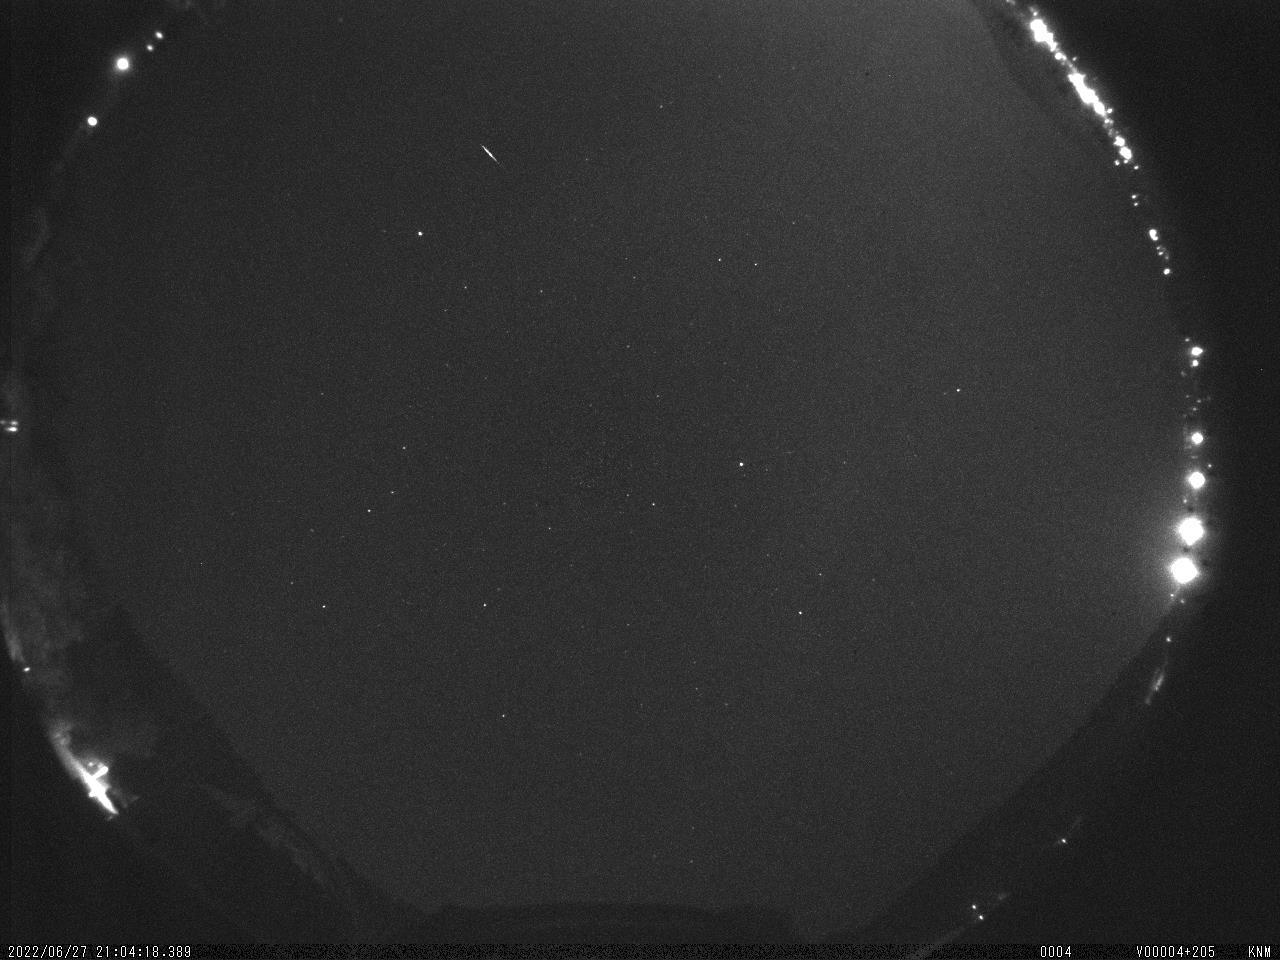Meteor: (474, 136, 507, 179)
